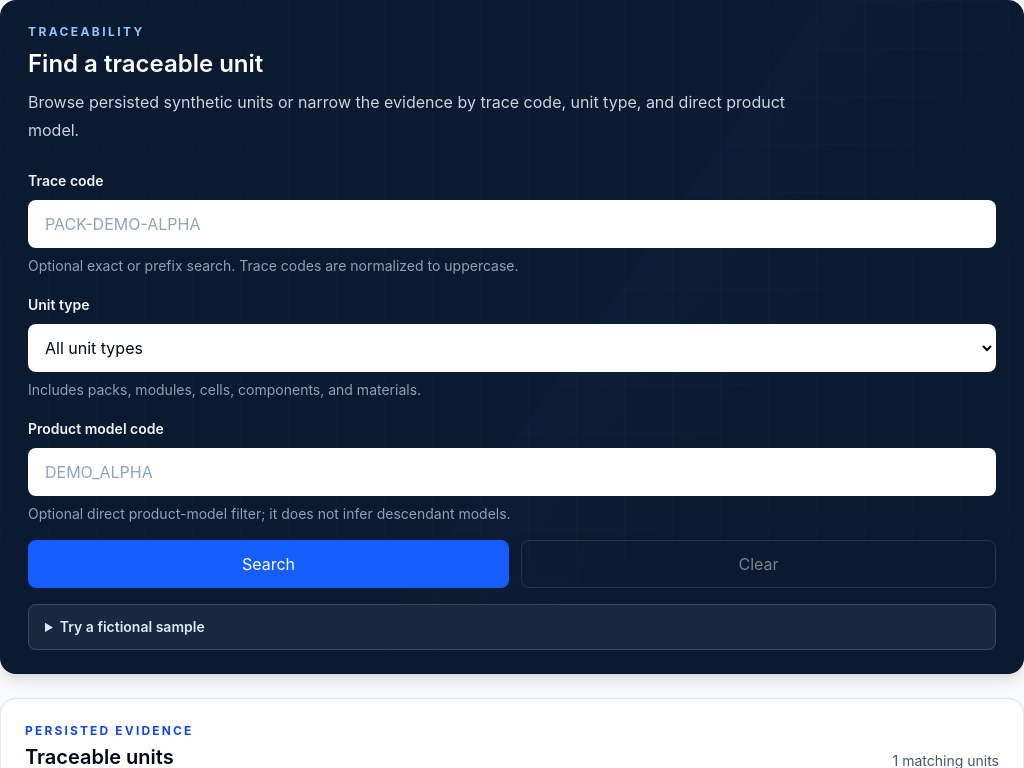
Test: traceability search › stores lowercase paste as an uppercase controlled trace code
The width and height of the screenshot is (1024, 768).
Click the field labelled "Trace code" at (512, 224), box [28,200,996,248]
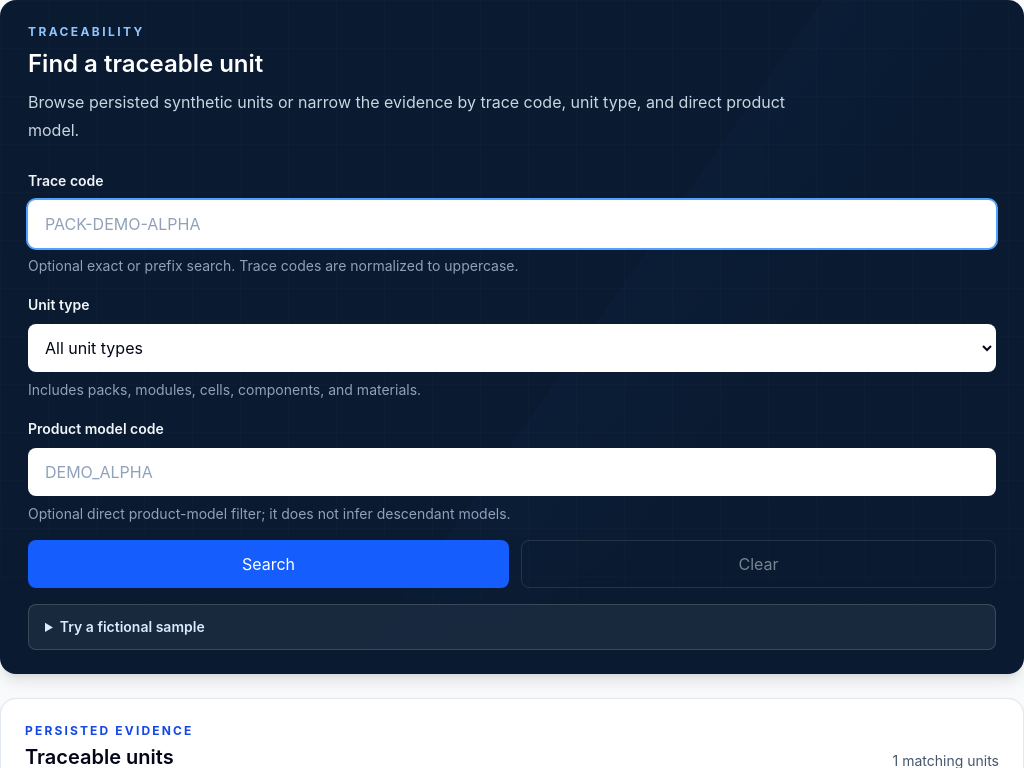
Type keys "pack-alpha-0001"
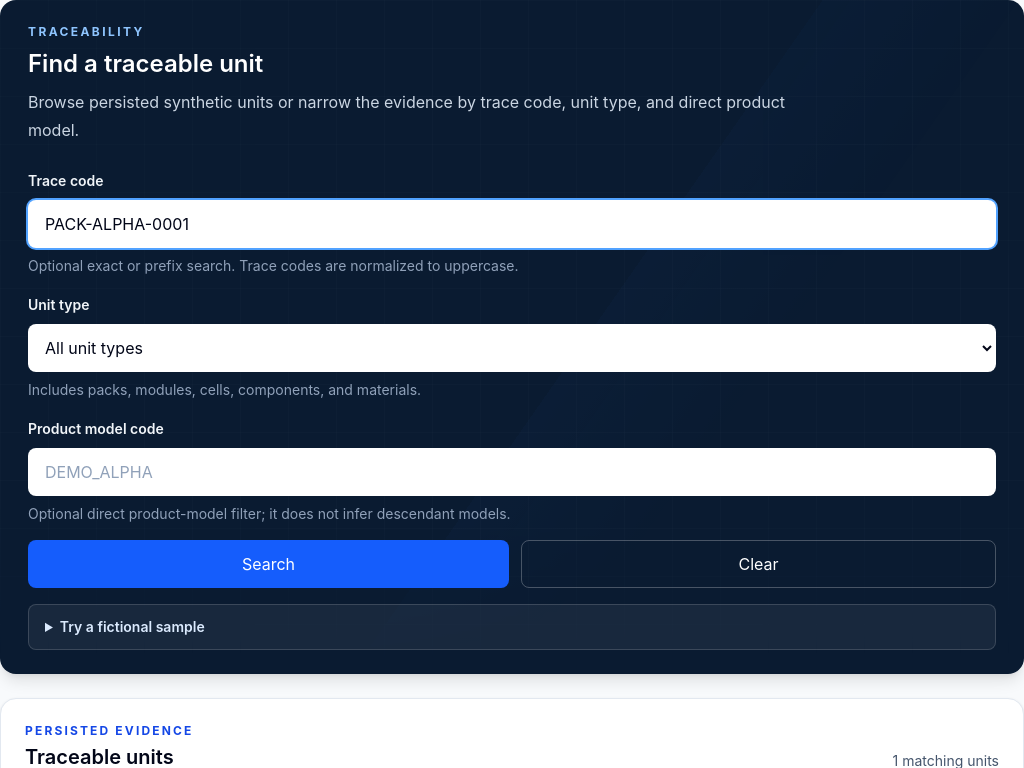
Now the field labelled "Trace code" holds "PACK-ALPHA-0001", box [28,200,996,248]
